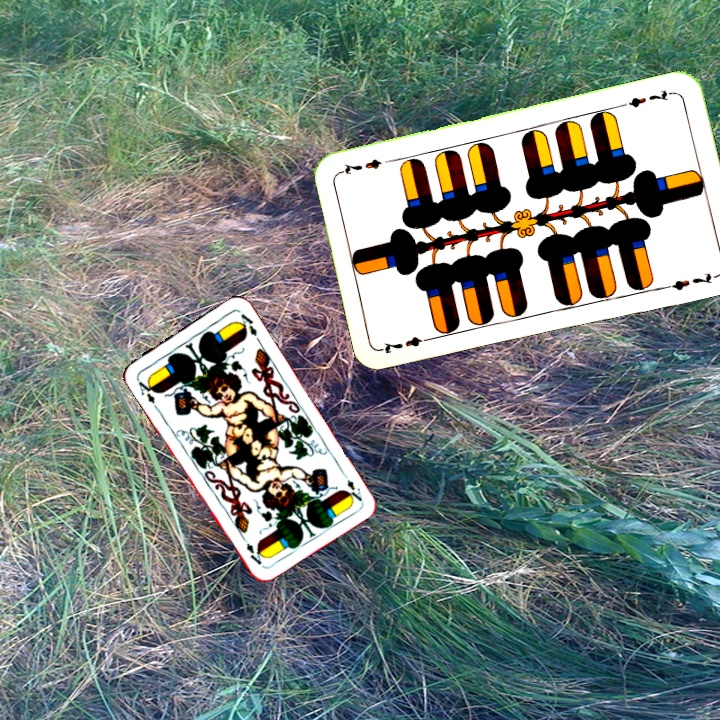E7: (378, 332, 437, 356), (619, 87, 677, 110)
EA: (338, 468, 365, 505), (133, 374, 159, 406)
